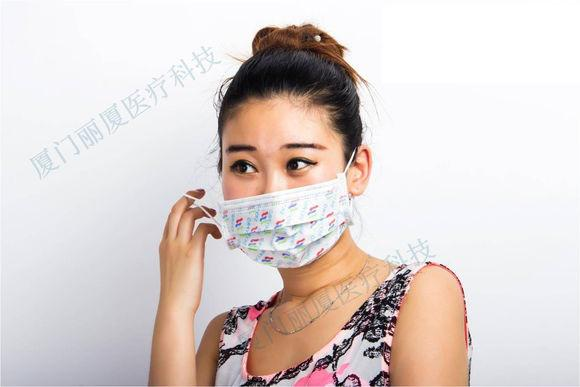WRONG: (223, 122, 356, 255)
